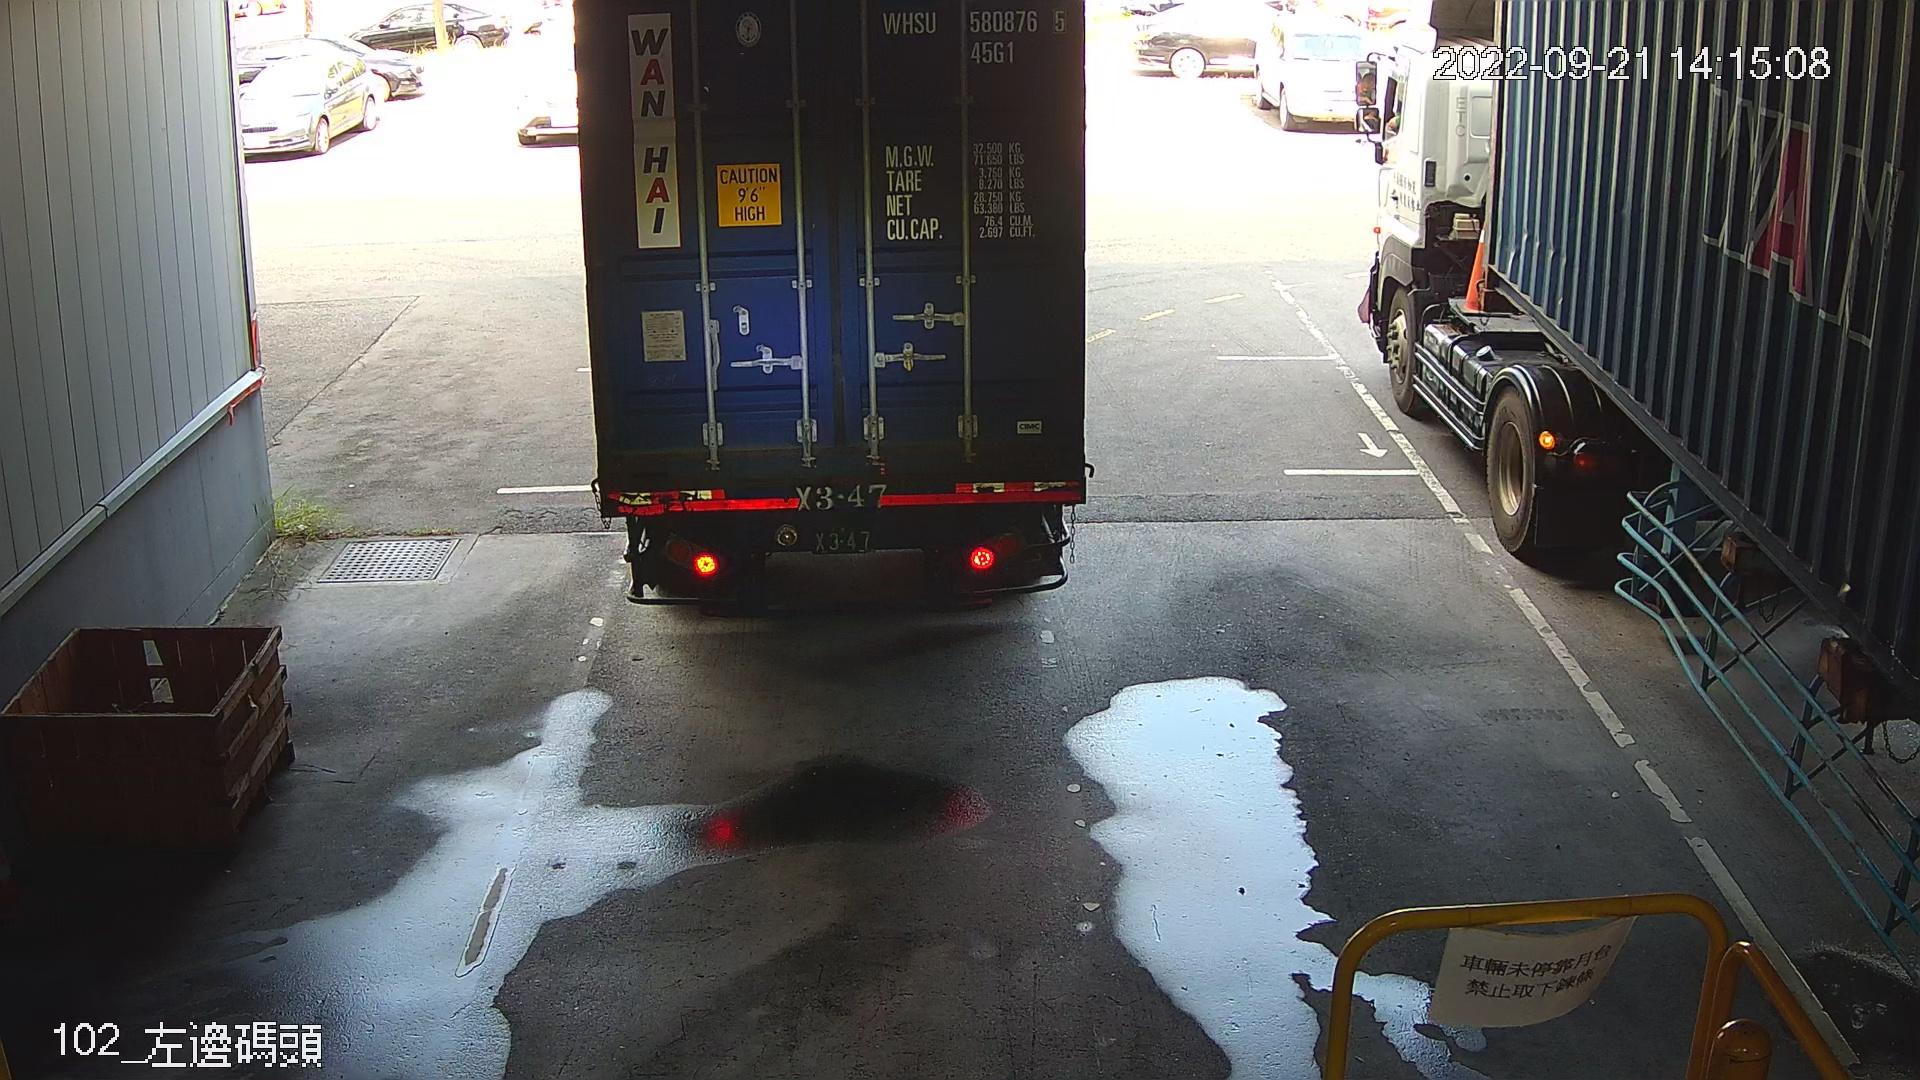container: (873, 3, 1076, 74)
